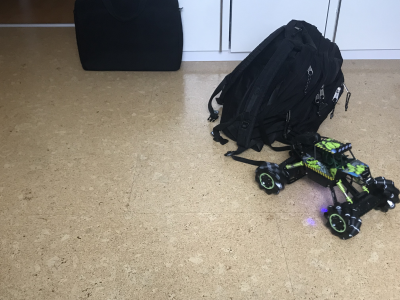remote control car: (252, 128, 400, 241)
